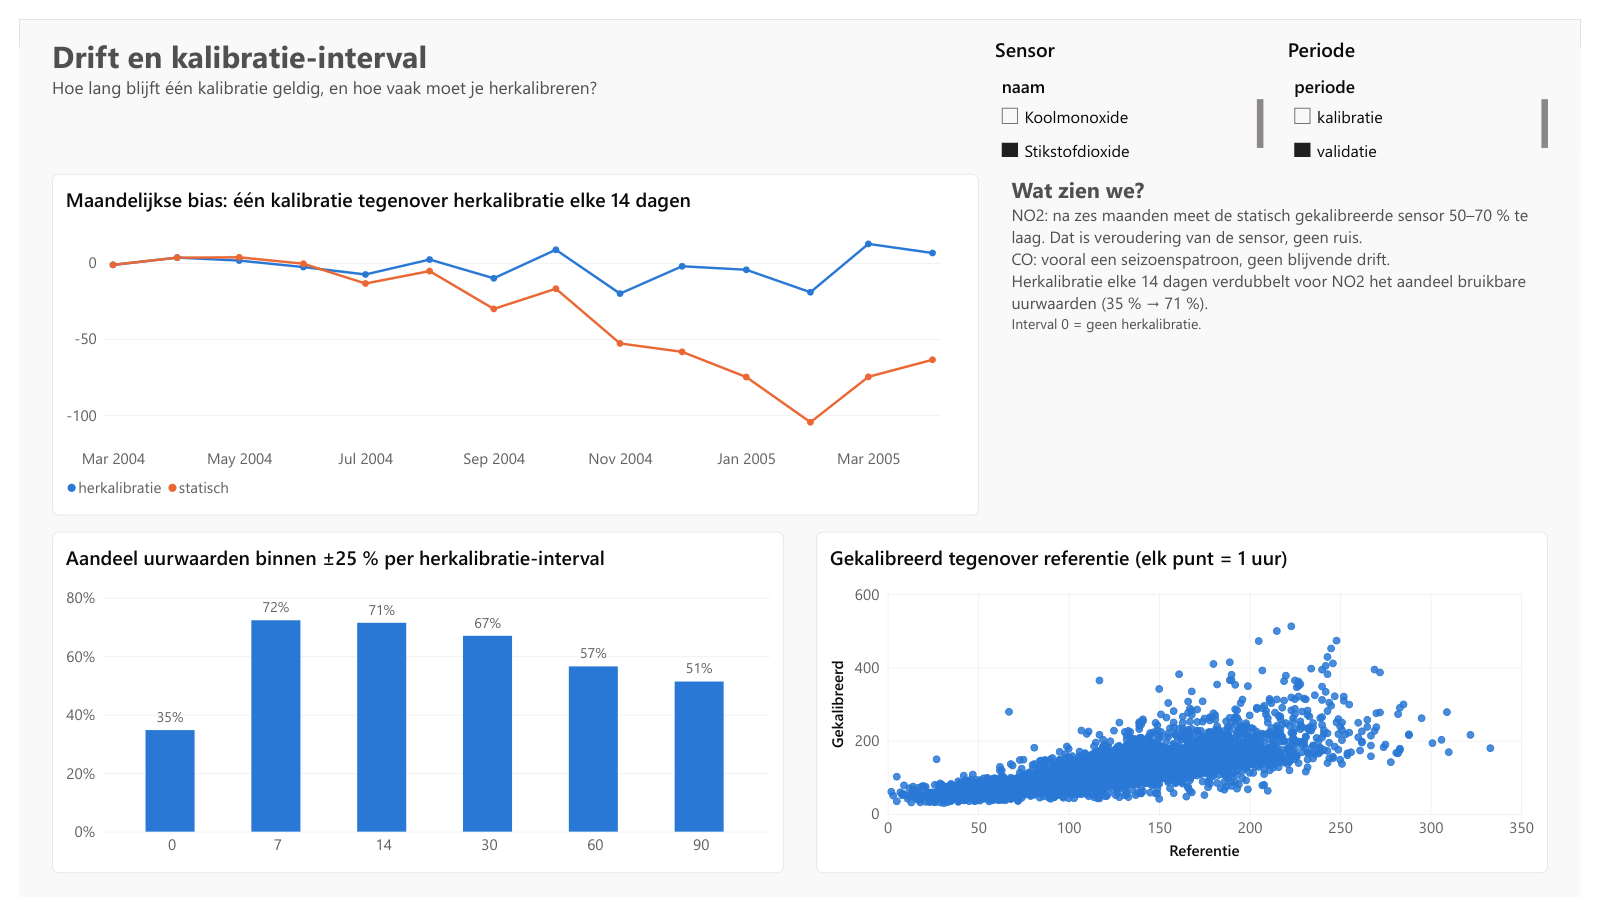

What the dashboard file says about the page in this screenshot:
{"tool":"powerbi","page":{"name":"Drift & kalibratie","canvas":[1920,1080],"ordinal":1},"visuals":[{"type":"textbox","box":[40,20,1120,130],"z":0},{"type":"slicer","title":"Sensor","fields":{"Values":["sensoren.naam"]},"box":[1200,20,330,150],"z":1000},{"type":"slicer","title":"Periode","fields":{"Values":["metingen.periode"]},"box":[1560,20,320,150],"z":2000},{"type":"lineChart","title":"Maandelijkse bias: één kalibratie tegenover herkalibratie elke 14 dagen","fields":{"Category":["maandkwaliteit.maand"],"Y":["Sum(maandkwaliteit.bias)"],"Series":["maandkwaliteit.variant"]},"box":[40,190,1140,420],"z":3000},{"type":"textbox","box":[1220,190,660,420],"z":4000},{"type":"clusteredColumnChart","title":"Aandeel uurwaarden binnen ±25 % per herkalibratie-interval","fields":{"Category":["kalibratie_interval.interval_dagen"],"Y":["Sum(kalibratie_interval.binnen_dqo)"]},"box":[40,630,900,420],"z":5000},{"type":"scatterChart","title":"Gekalibreerd tegenover referentie (elk punt = 1 uur)","fields":{"Category":["metingen.tijdstip"],"X":["Sum(metingen.referentie)"],"Y":["Sum(metingen.gekalibreerd_herkalibratie)"]},"box":[980,630,900,420],"z":6000}]}

Visuals, with their boxes in screenshot pixels (x1, y1, x2, y2), scaled from the page's 1920x1080 canvas onto the 1600x918 screenshot:
textbox: {"x1": 33, "y1": 17, "x2": 967, "y2": 128}
"Sensor" slicer: {"x1": 1000, "y1": 17, "x2": 1275, "y2": 144}
"Periode" slicer: {"x1": 1300, "y1": 17, "x2": 1567, "y2": 144}
"Maandelijkse bias: één kalibratie tegenover herkalibratie elke 14 dagen" lineChart: {"x1": 33, "y1": 162, "x2": 983, "y2": 518}
textbox: {"x1": 1017, "y1": 162, "x2": 1567, "y2": 518}
"Aandeel uurwaarden binnen ±25 % per herkalibratie-interval" clusteredColumnChart: {"x1": 33, "y1": 536, "x2": 783, "y2": 892}
"Gekalibreerd tegenover referentie (elk punt = 1 uur)" scatterChart: {"x1": 817, "y1": 536, "x2": 1567, "y2": 892}
